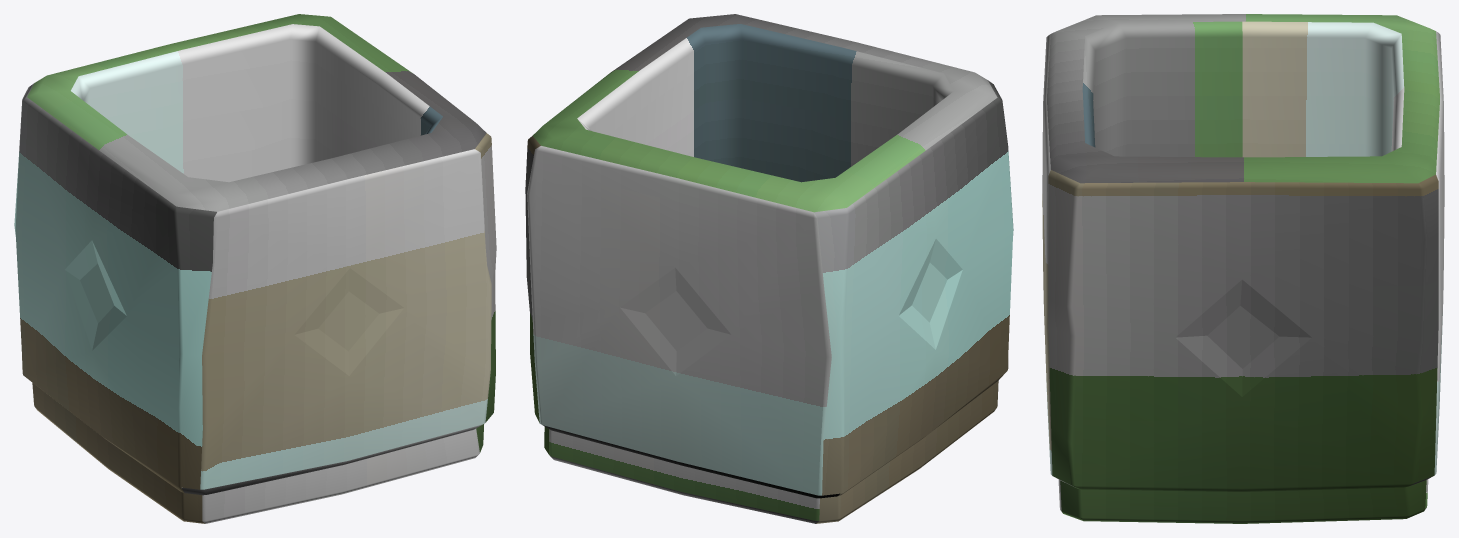
The model's file is P_StoneBoxEmpty.glb.
3 views of the same model, side by side, from view 1: azimuth 30°, elevation 25°; view 2: azimuth 150°, elevation 25°; view 3: azimuth 270°, elevation 25° (orthographic). The views are drawn at different scales.
Parts seen in each view (by area): view 1: P_StoneBoxEmpty; view 2: P_StoneBoxEmpty; view 3: P_StoneBoxEmpty.
Boxes of the visible parts, x1=… form: P_StoneBoxEmpty: x1=14, y1=14, x2=496, y2=523; P_StoneBoxEmpty: x1=525, y1=14, x2=1013, y2=523; P_StoneBoxEmpty: x1=1042, y1=14, x2=1444, y2=523.
Bounding box in the file's own units: 0.507 × 0.4958 × 0.4965.
1 material, 1 textured.
